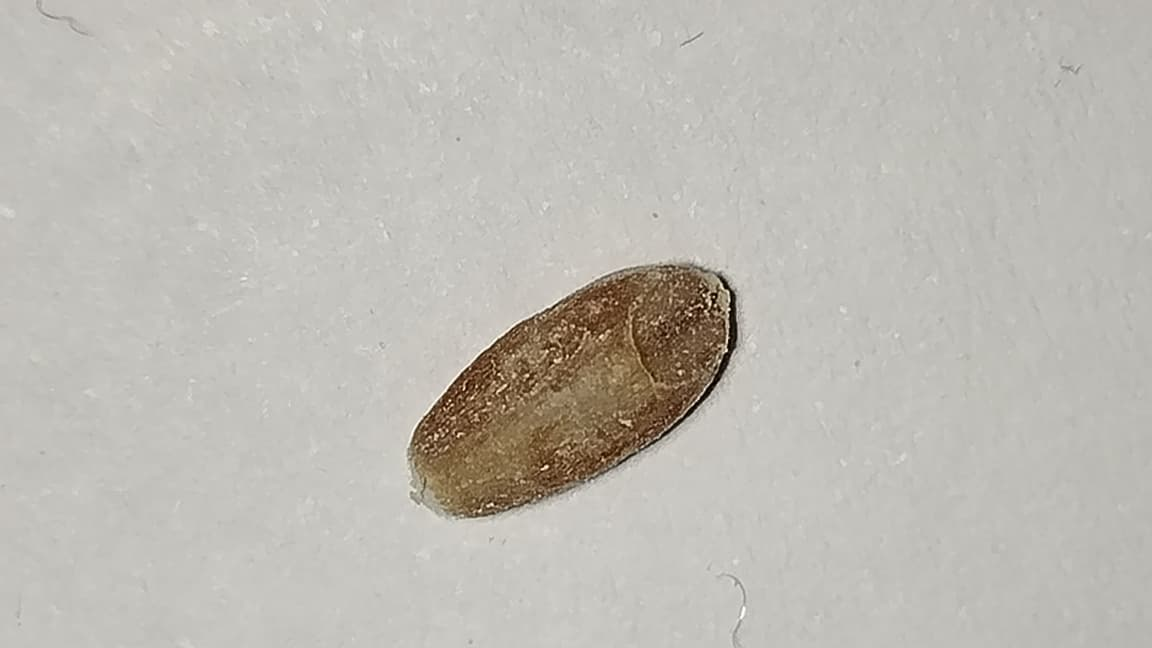staindamage: (409, 263, 729, 511)
